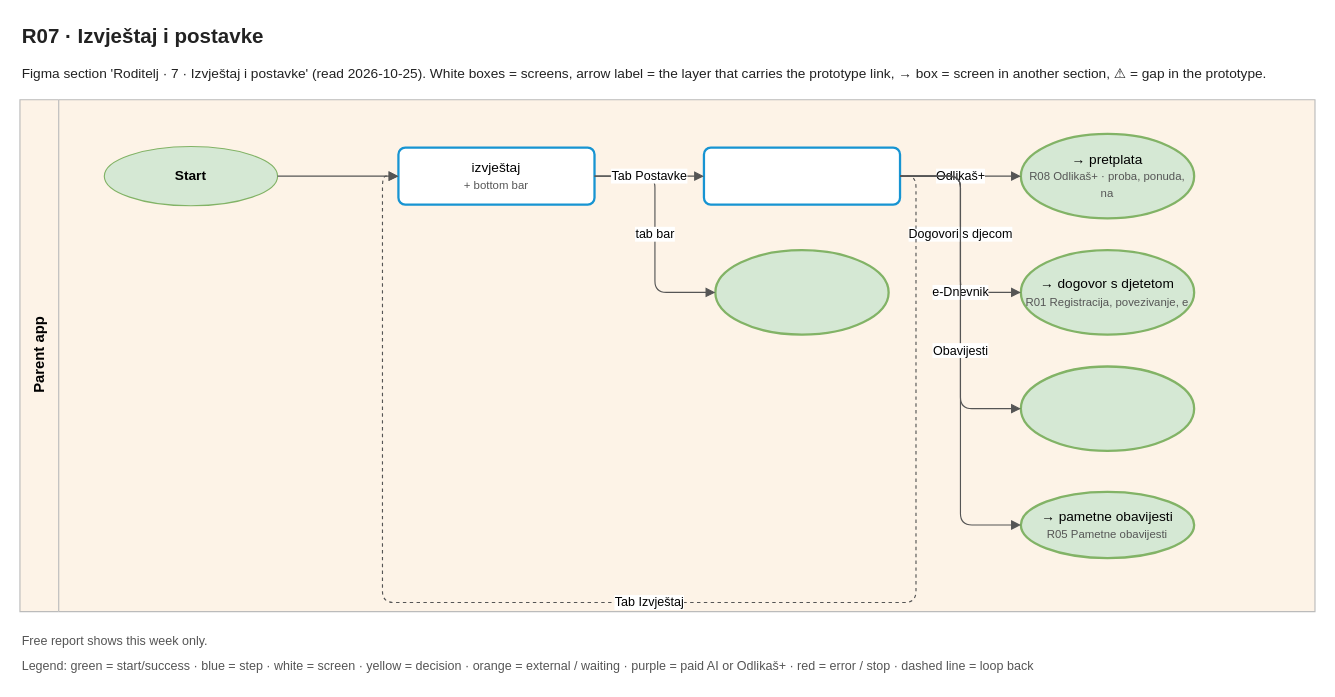
This 1335x697 diagram has some shape labels left out. Here are the shapes that lost their labels. From the top down, the centre of each, then its label:
At [801,175]: "postavke + bottom bar".
At [801,292]: "Bottom bar (tabs · Pitaj Josu · Slikaj)".
At [1107,408]: "→ e-Dnevnik (postavke) R10 Bez e-Dnevnika, ručne ocjene".
